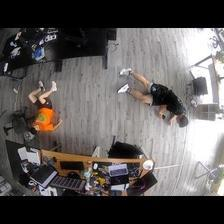fall: (113, 67, 189, 128), (28, 79, 61, 135)
